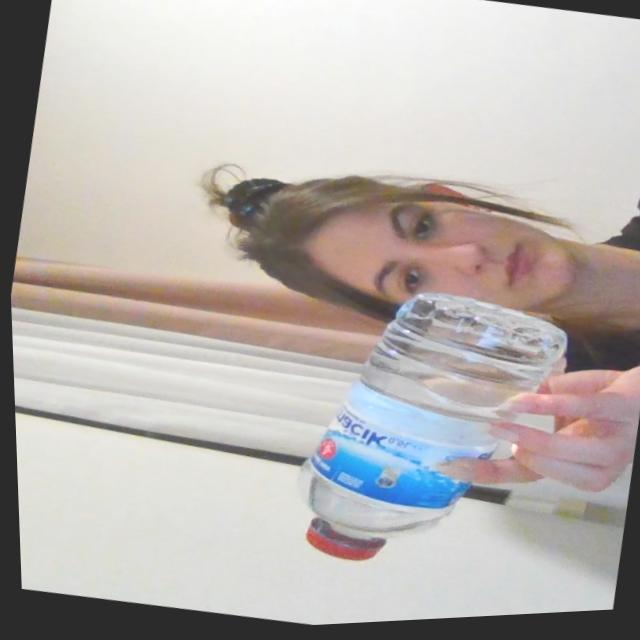anorganik: (278, 265, 598, 625)
